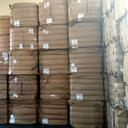cardboard: (68, 72, 105, 99), (69, 99, 102, 127), (68, 47, 103, 72), (67, 23, 101, 47), (7, 48, 38, 73), (67, 0, 101, 22), (38, 98, 66, 124), (37, 23, 66, 48), (7, 97, 36, 122), (7, 74, 37, 98), (38, 49, 67, 73), (8, 2, 37, 26), (37, 0, 67, 23), (39, 74, 68, 97), (8, 26, 37, 49), (101, 7, 118, 45), (103, 40, 120, 75), (104, 74, 123, 104), (105, 102, 127, 127), (117, 13, 127, 52), (114, 0, 127, 18), (120, 53, 127, 82), (0, 73, 7, 98), (0, 15, 9, 34), (0, 51, 7, 73), (0, 99, 6, 123), (122, 81, 127, 107), (0, 35, 8, 50), (101, 0, 113, 6)
